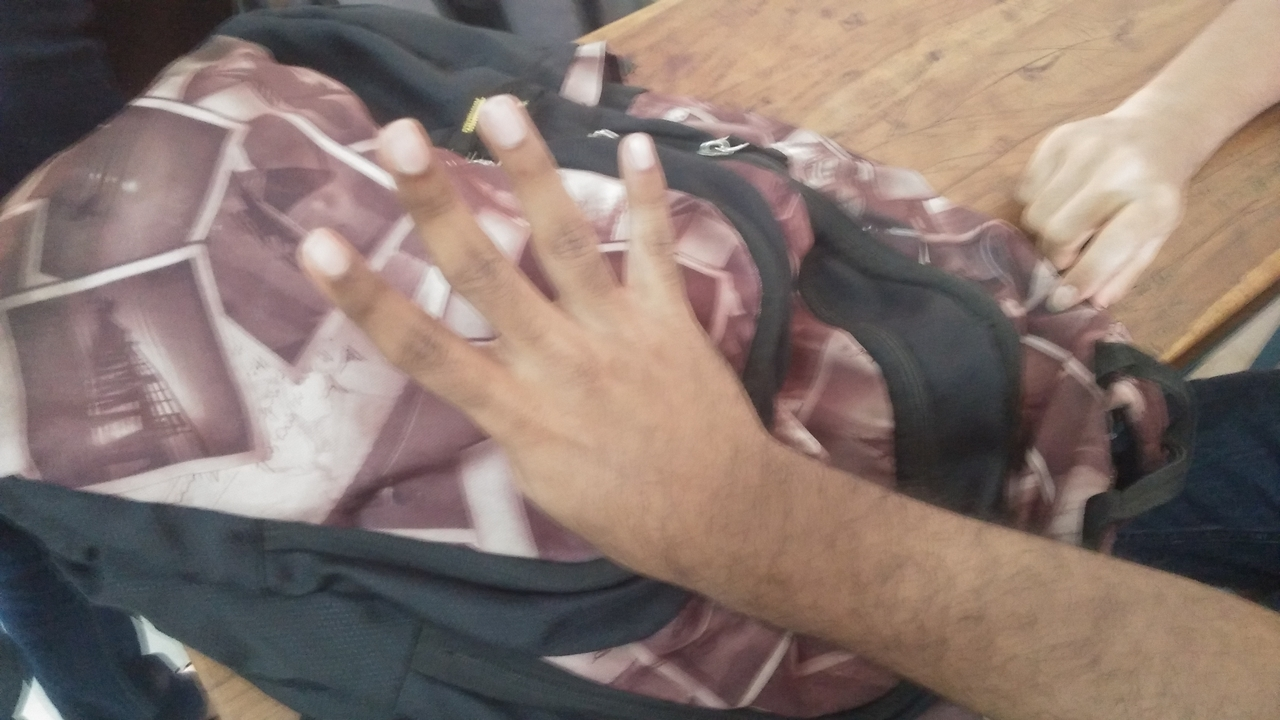fingertip: (460, 86, 542, 154), (282, 226, 360, 286), (365, 120, 438, 183), (608, 120, 670, 176)
